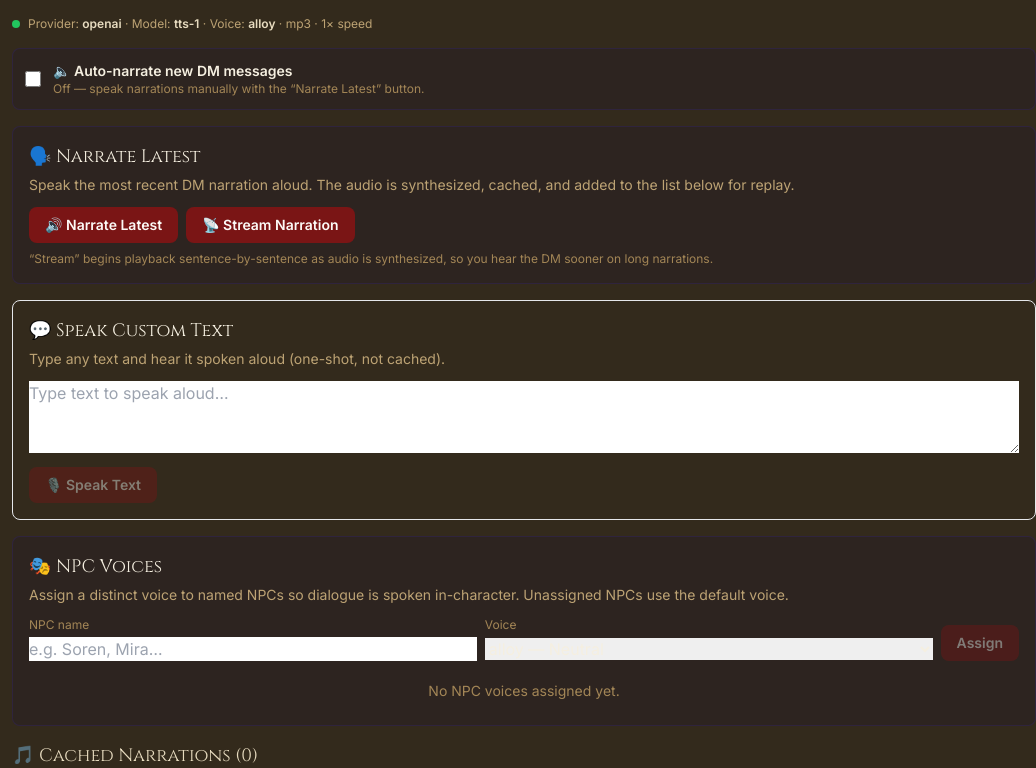
Test case: VoicePanel › disables the Assign button when the NPC name is empty
expect the heading "🎭 NPC Voices" is shown: met, box [29,554,162,579]
expect the button "Assign" is disabled: met, box [941,625,1019,661]
// Typing a name enables it.
Type "Mira" into the field with placeholder "e.g. Soren, Mira…" at point(253, 649), box [29,637,477,661]
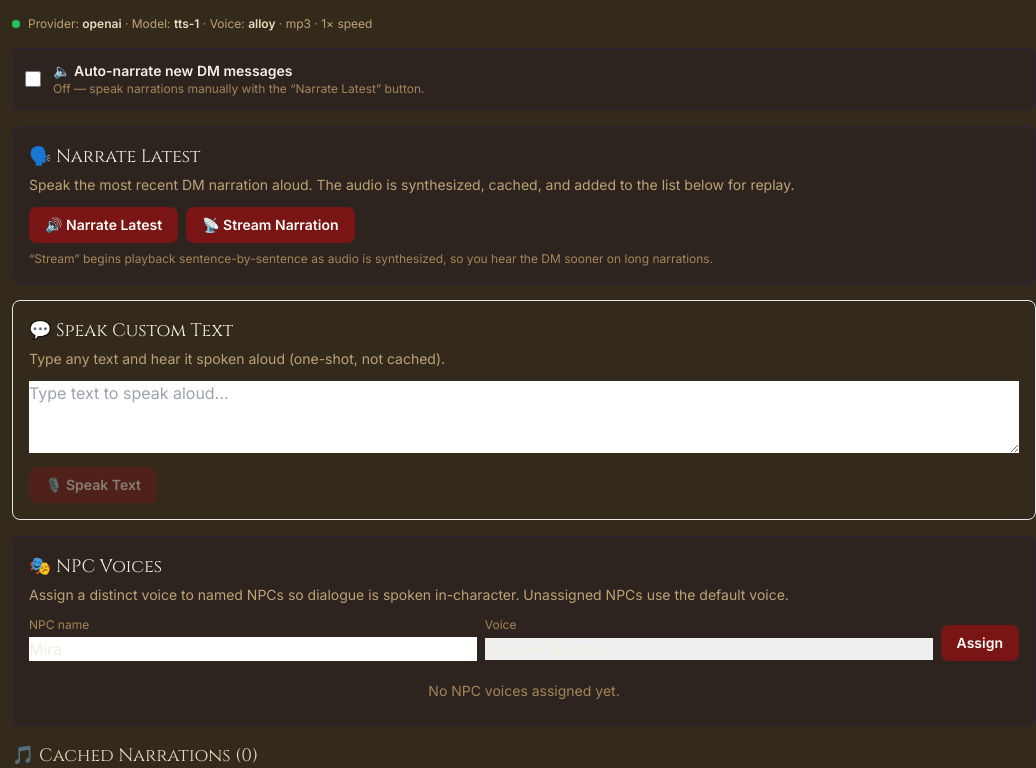
expect the button "Assign" is enabled: met, box [941,625,1019,661]
